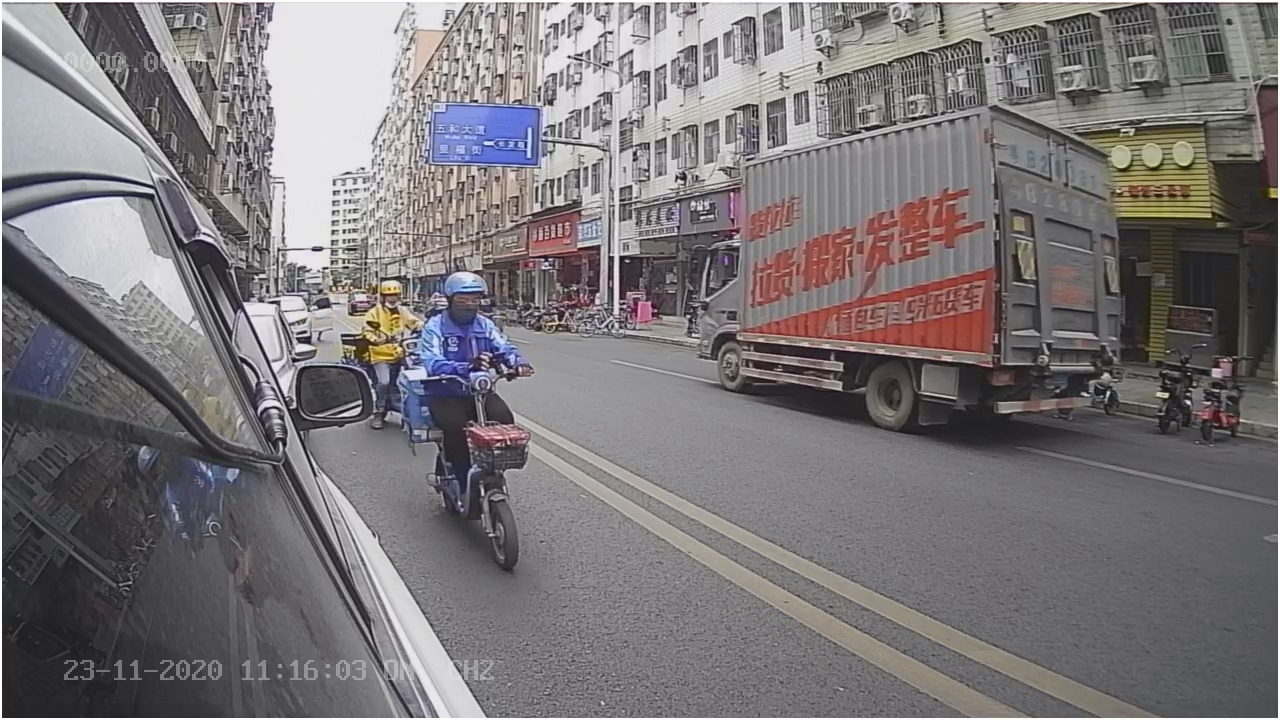person: (412, 267, 523, 354), (356, 271, 423, 349)
